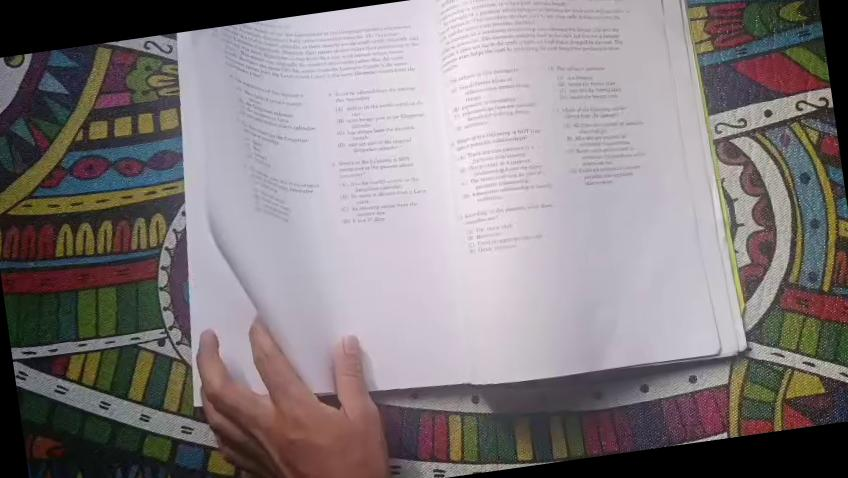Kertas: (416, 0, 729, 392), (180, 0, 470, 312)
